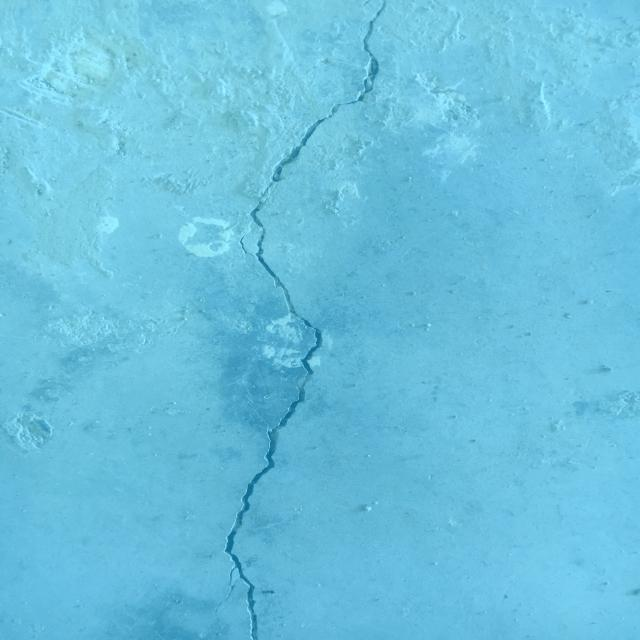crack: (214, 0, 388, 640)
